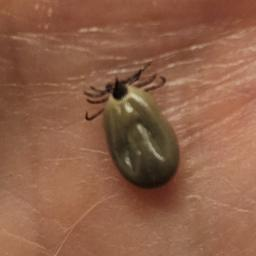Ixodes scapularis: (83, 61, 180, 188)
